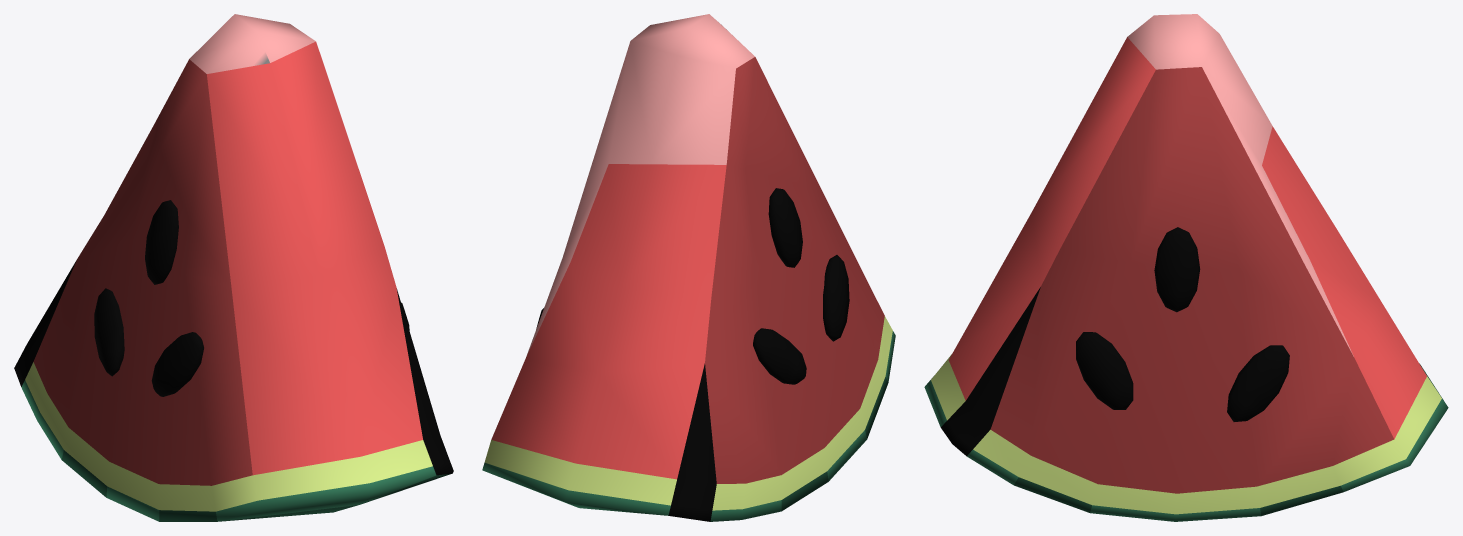
File: FX_Fruit_Watermelon.FBX
The picture shows the model from 3 angles, left to right: view 1: azimuth 30°, elevation 25°; view 2: azimuth 150°, elevation 25°; view 3: azimuth 270°, elevation 25°; orthographic projection. The views are drawn at different scales.
Parts seen in each view (by area): view 1: watermelon_fx; view 2: watermelon_fx; view 3: watermelon_fx.
Boxes of the visible parts, box(x1,y1,x2,y2) form: watermelon_fx: box(14, 14, 453, 521); watermelon_fx: box(482, 14, 895, 521); watermelon_fx: box(924, 14, 1448, 521).
Size of the model in its own units: 17 by 28.9 by 27.64.
